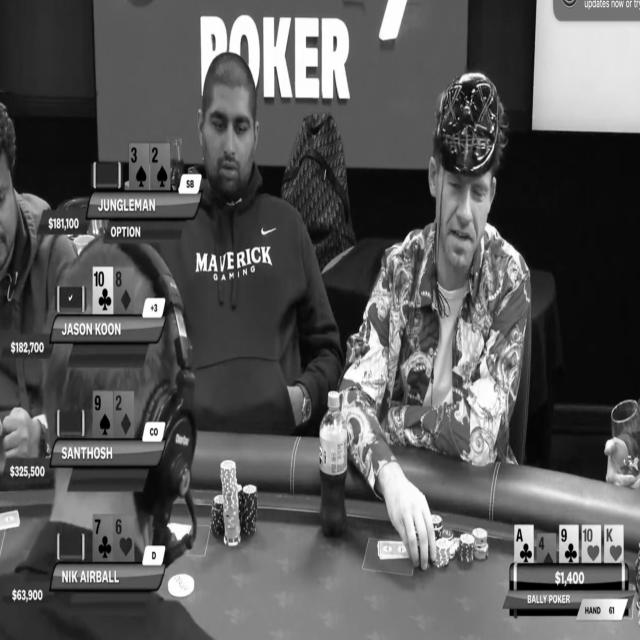10C: (93, 268, 113, 312)
10H: (582, 526, 601, 562)
2D: (114, 392, 133, 437)
2S: (152, 144, 168, 189)
3S: (130, 144, 147, 190)
4D: (537, 534, 556, 564)
6H: (115, 517, 133, 559)
7C: (93, 515, 113, 561)
8D: (115, 269, 133, 314)
9C: (560, 525, 578, 563)
9S: (94, 392, 112, 437)
AC: (515, 525, 533, 563)
KH: (604, 526, 622, 562)
